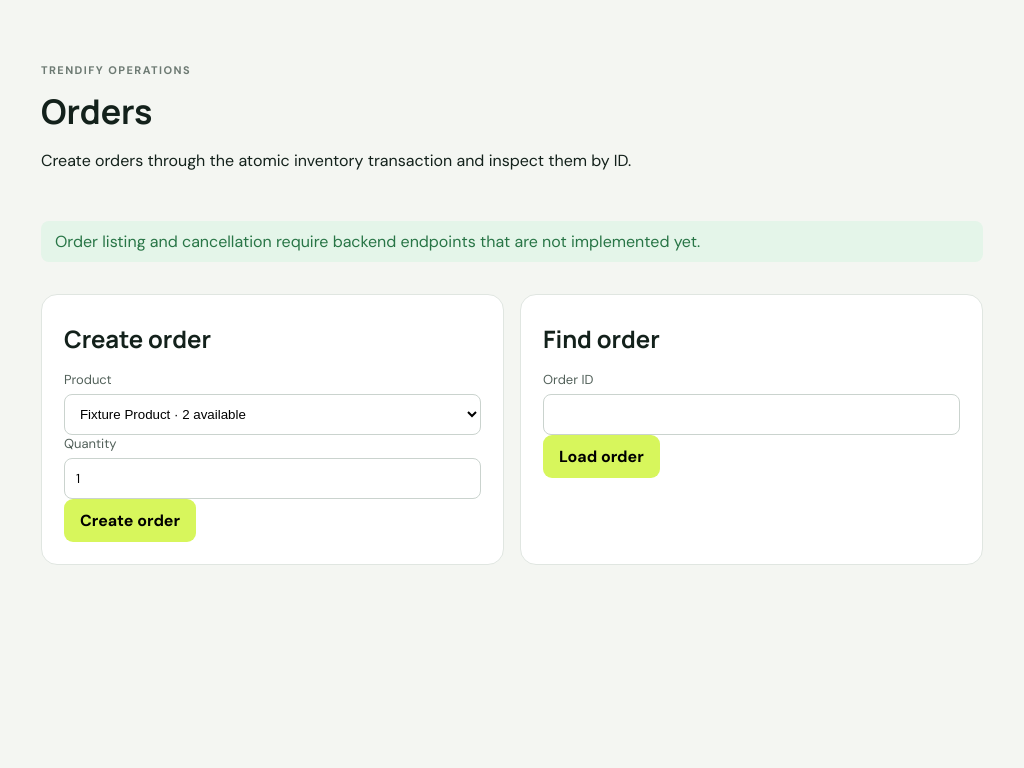
Test: feature pages › creates an atomic order
Click the button "Create order".
click(130, 520)  # box [64, 499, 196, 542]
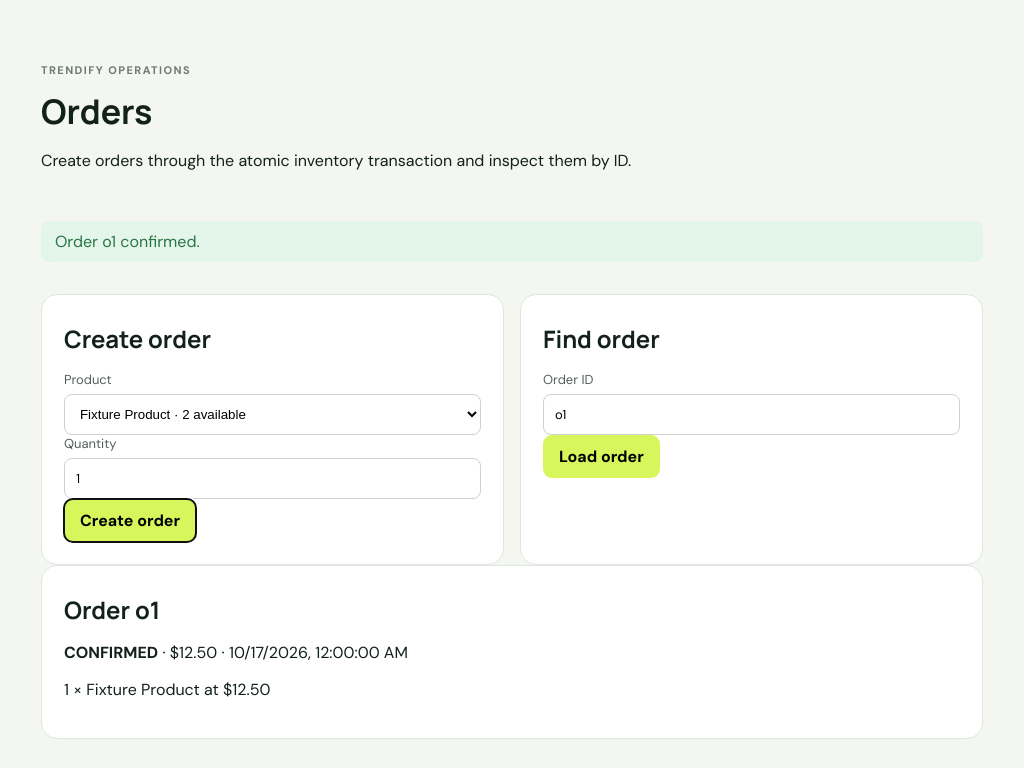
Expected: the text "Order o1 confirmed." is shown, [41, 221, 983, 262]
Expected: the heading "Order o1" is shown, [64, 593, 160, 626]
